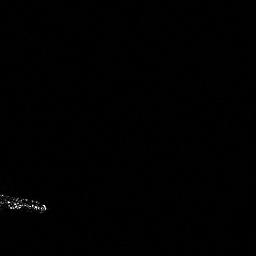ship: (1, 189, 52, 218)
